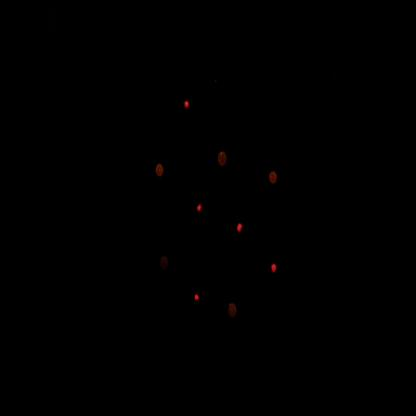PET: (187, 281, 208, 314), (266, 253, 286, 285), (179, 90, 198, 118), (231, 216, 252, 240), (194, 196, 208, 222)
PS: (214, 143, 233, 173), (224, 296, 242, 325), (154, 156, 169, 184), (267, 168, 282, 195), (159, 251, 173, 275)
